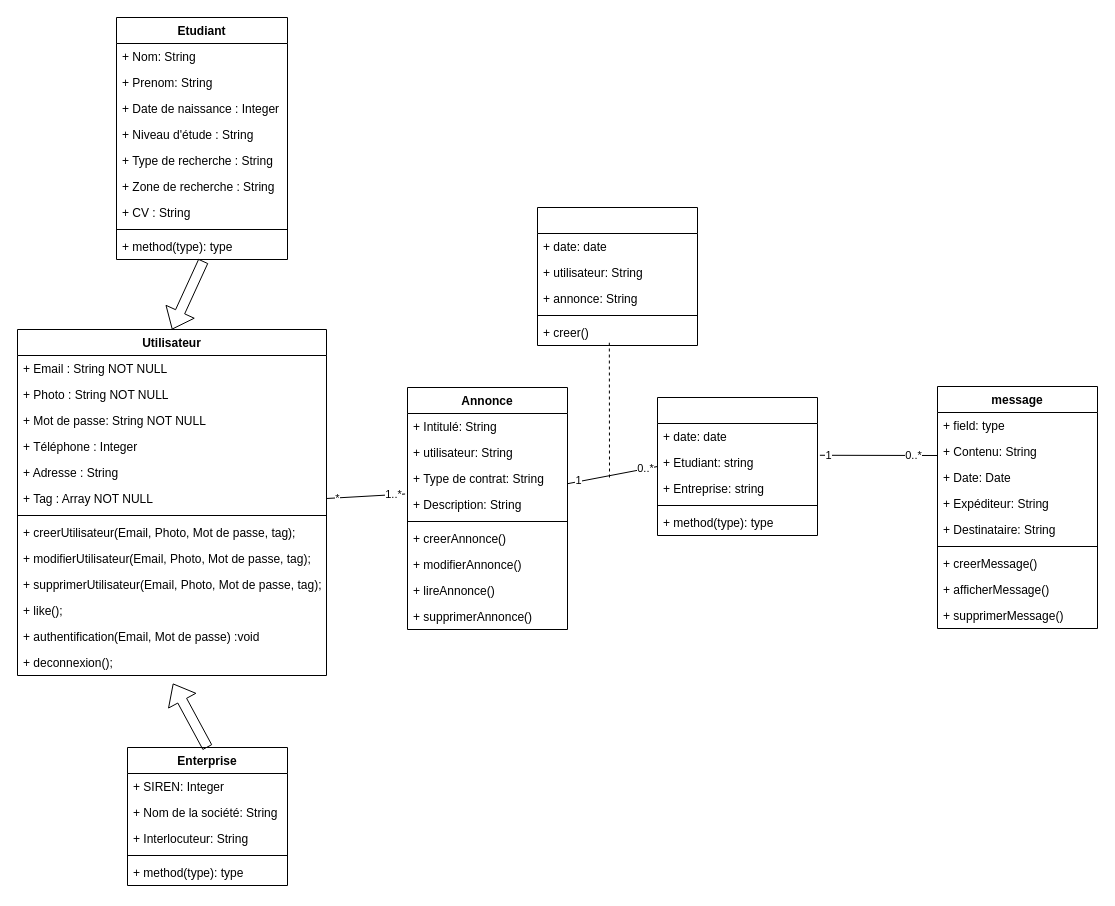
This 1115x906 diagram has some shape labels left out. Here are the shapes that lost their labels. From the top down, the box of each, then its label:
(536, 206, 698, 346): like
(656, 396, 818, 536): match
